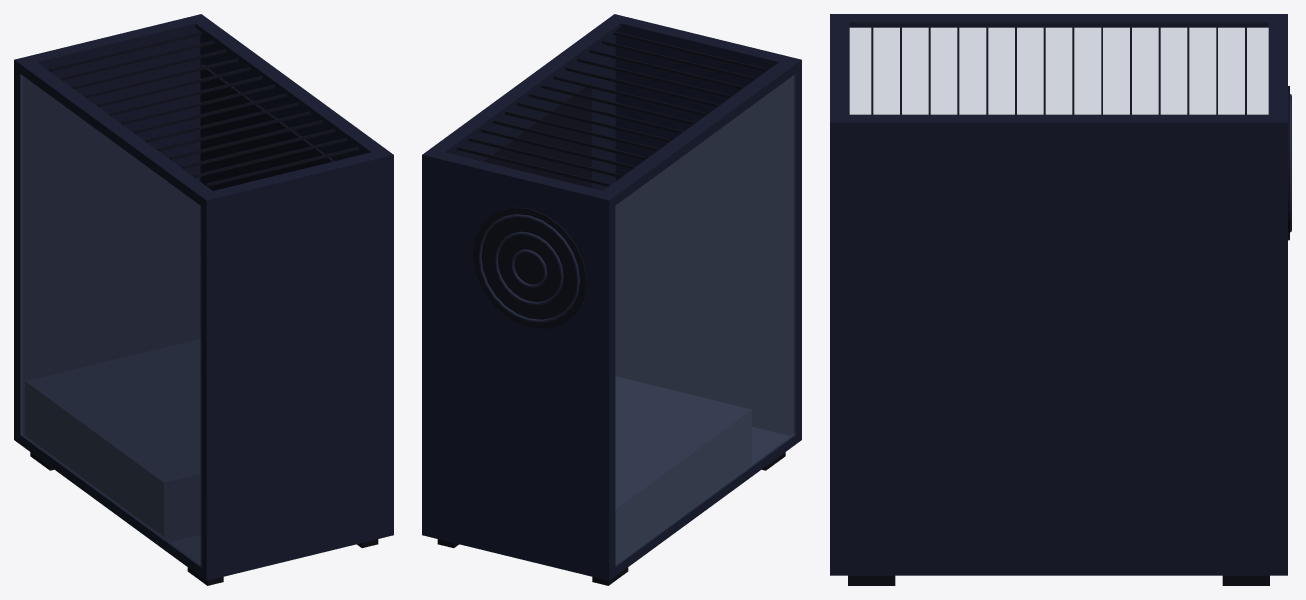
Rendered from case-compact.glb.
3 renders of one model, left to right at view 1: azimuth 30°, elevation 25°; view 2: azimuth 150°, elevation 25°; view 3: azimuth 270°, elevation 25°, orthographic. The views are drawn at different scales.
Visible parts, largest first — view 1: front_panel, panel_glass_left, panel_rear, psu_shroud, left_frame, top_rim, top_vent_slats, mobo_tray, panel_right, panel_bottom; view 2: panel_glass_left, panel_rear, front_panel, psu_shroud, left_frame, top_rim, rear_fan_cutout, top_vent_slats, panel_right, mobo_tray, rear_fan_grill, panel_bottom; view 3: panel_right, panel_glass_left, top_rim, top_vent_slats, feet.
Boxes of the visible parts, <box> form: front_panel: <box>209,160,391,577</box>; panel_glass_left: <box>21,75,201,566</box>; panel_rear: <box>23,27,200,435</box>; psu_shroud: <box>25,338,200,541</box>; left_frame: <box>14,59,209,580</box>; top_rim: <box>15,14,393,203</box>; top_vent_slats: <box>49,31,359,186</box>; mobo_tray: <box>201,64,334,190</box>; panel_right: <box>200,31,393,535</box>; panel_bottom: <box>171,533,391,579</box>; panel_glass_left: <box>615,74,795,565</box>; panel_rear: <box>424,155,608,580</box>; front_panel: <box>615,27,792,435</box>; psu_shroud: <box>615,376,751,563</box>; left_frame: <box>606,59,801,580</box>; top_rim: <box>422,14,800,204</box>; rear_fan_cutout: <box>473,207,586,328</box>; top_vent_slats: <box>456,31,766,186</box>; panel_right: <box>422,31,615,535</box>; mobo_tray: <box>481,81,591,188</box>; rear_fan_grill: <box>478,214,579,322</box>; panel_bottom: <box>555,427,789,578</box>; panel_right: <box>830,122,1287,575</box>; panel_glass_left: <box>850,28,1268,114</box>; top_rim: <box>830,14,1287,122</box>; top_vent_slats: <box>871,25,1246,114</box>; feet: <box>848,575,1269,585</box>.
Bounding box in the file's own units: 186 × 372 × 333.
